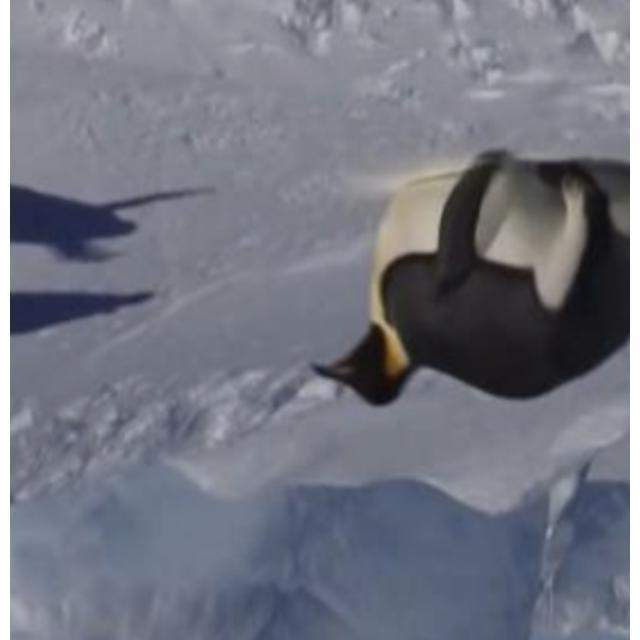penguin: (310, 148, 626, 408)
